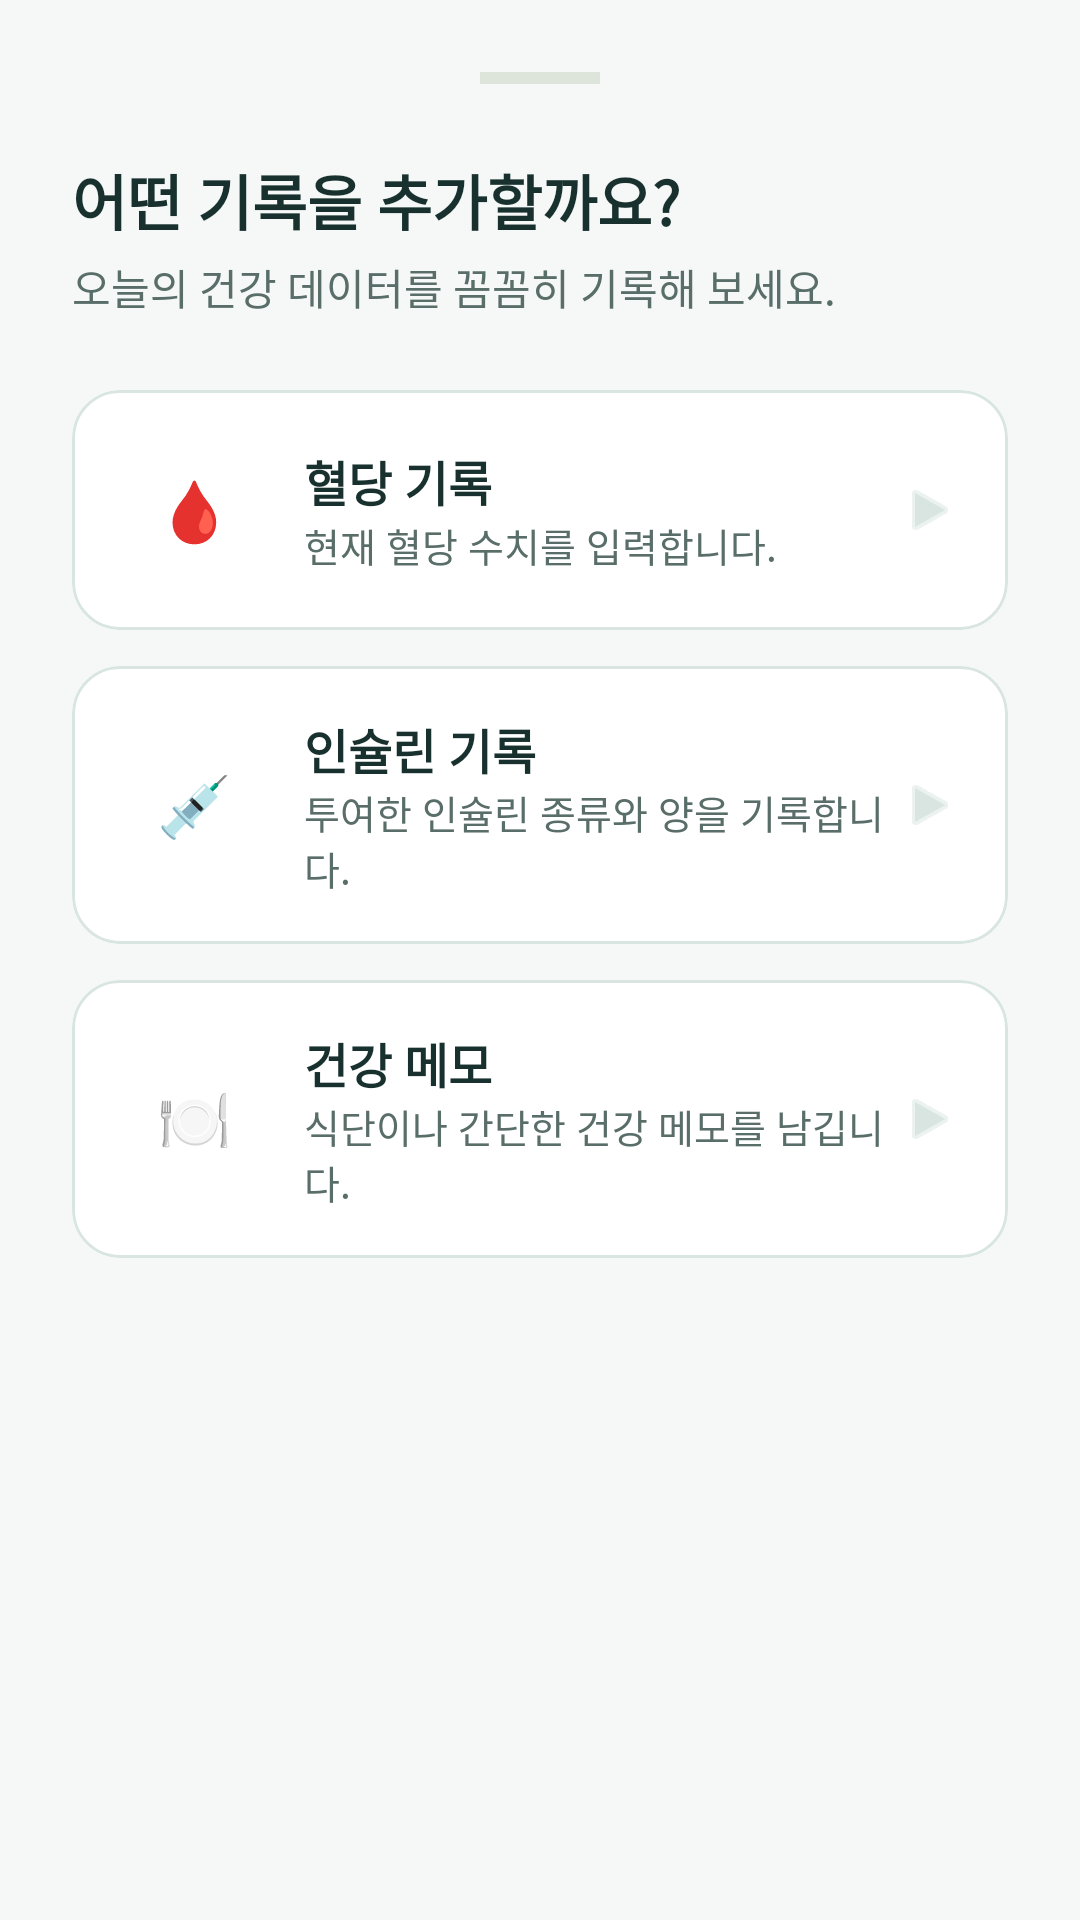

Where icons sit on this 1080x1920 app screen, as (x1, y1, x2, y2):
play: (915, 493, 945, 527), (915, 788, 945, 822), (915, 1102, 945, 1136)
